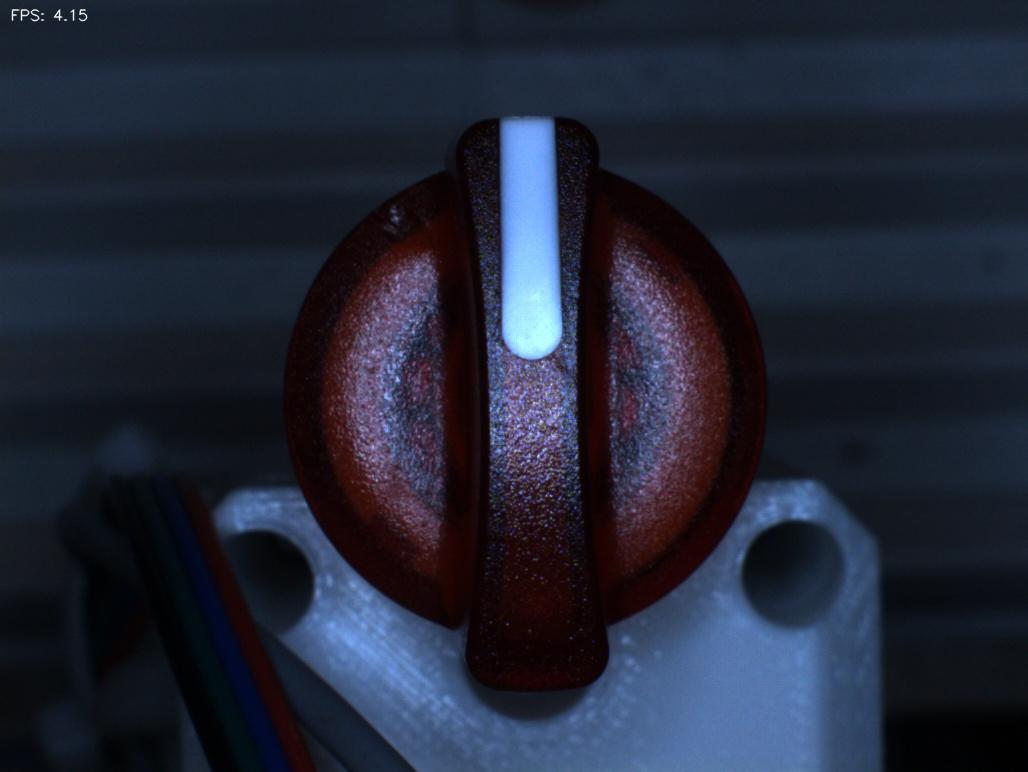Choc: (363, 189, 434, 256)
